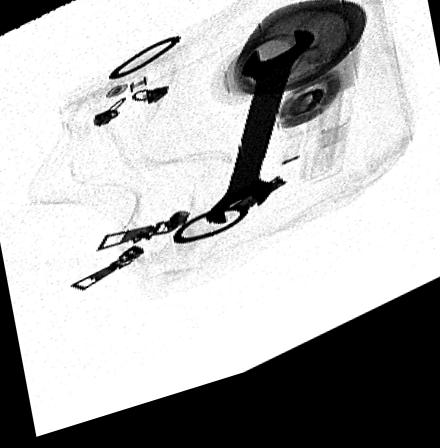Wrench: (205, 48, 316, 238)
